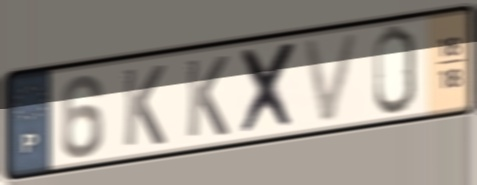0: (371, 22, 419, 119)
6: (58, 70, 106, 161)
K: (120, 62, 168, 150), (184, 52, 231, 141)
V: (298, 28, 365, 129)
X: (238, 38, 301, 139)
